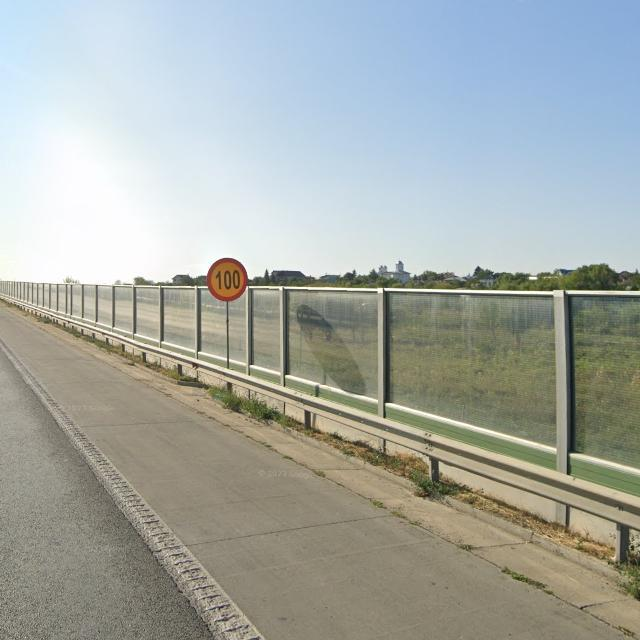forb_speed_over_100: (207, 258, 248, 301)
